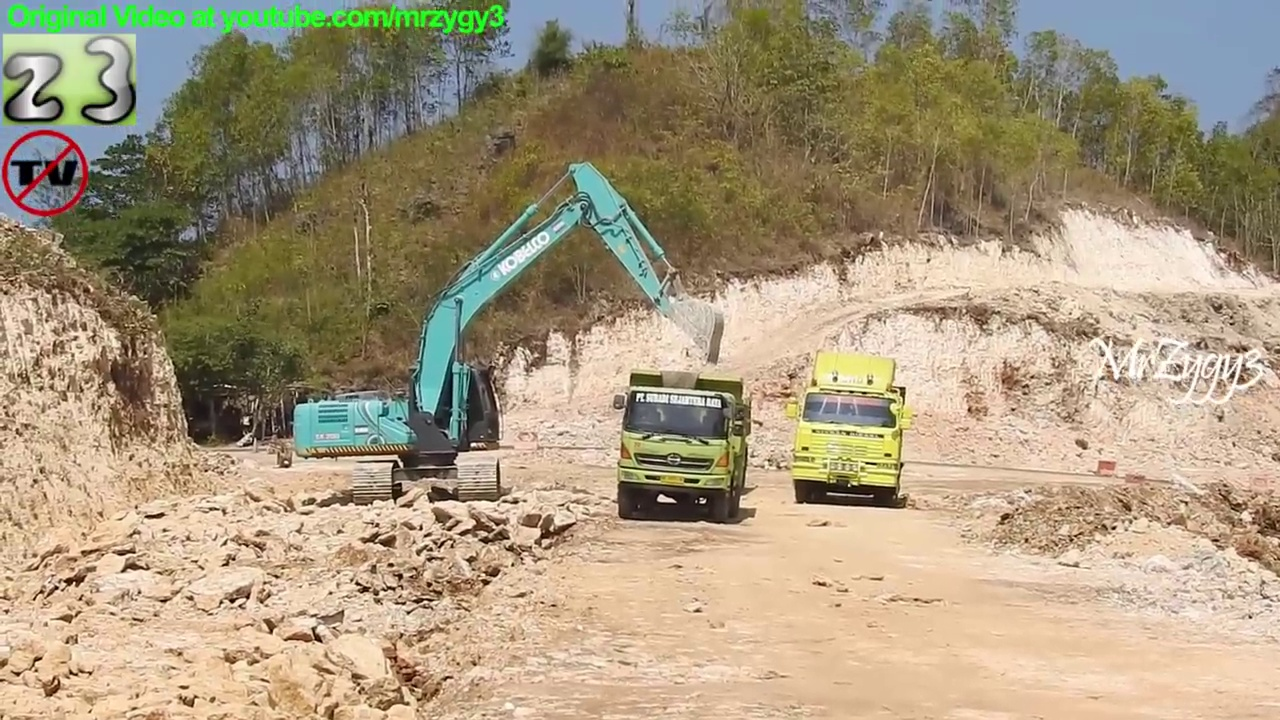excavator: (289, 154, 730, 506)
truck: (610, 364, 754, 523), (786, 345, 917, 513)
